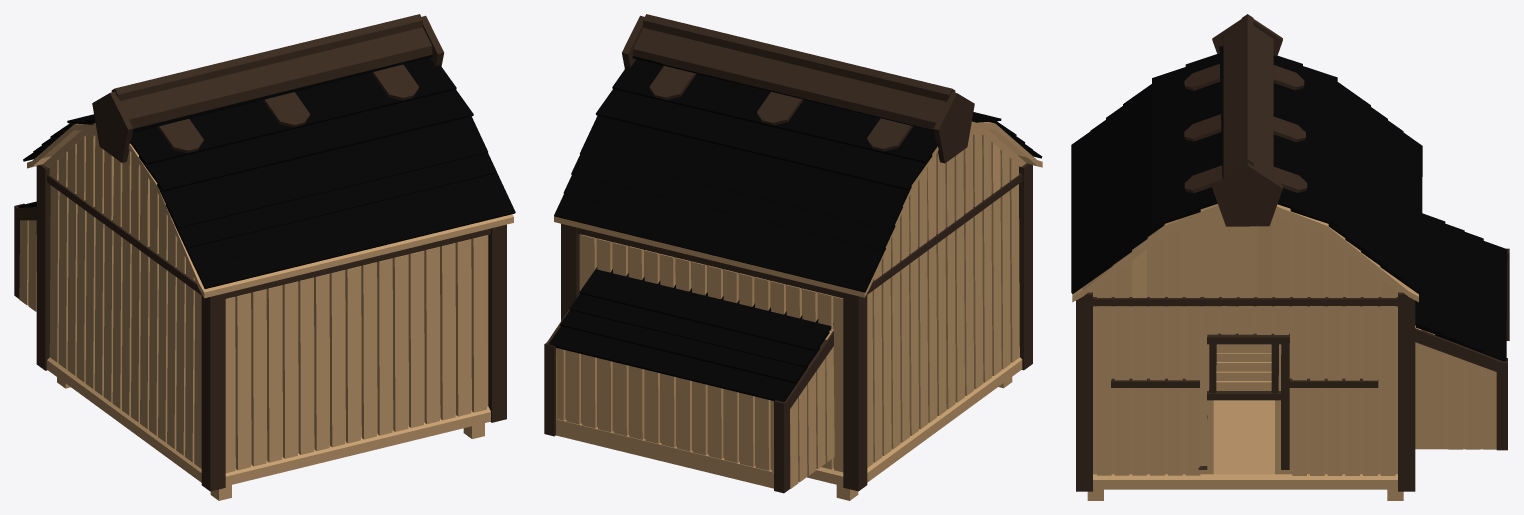
Rendered from ChickenCoop.fbx.
3 views of the same model, side by side, from view 1: azimuth 30°, elevation 25°; view 2: azimuth 150°, elevation 25°; view 3: azimuth 270°, elevation 25° (orthographic). The views are drawn at different scales.
Visible parts, largest first — view 1: ChickenCoop; view 2: ChickenCoop; view 3: ChickenCoop.
Part boxes in pixels (x1=…): ChickenCoop: x1=14, y1=14, x2=515, y2=500; ChickenCoop: x1=544, y1=14, x2=1042, y2=500; ChickenCoop: x1=1071, y1=14, x2=1509, y2=500.
Size of the model in its own units: 753 by 813 by 924.
